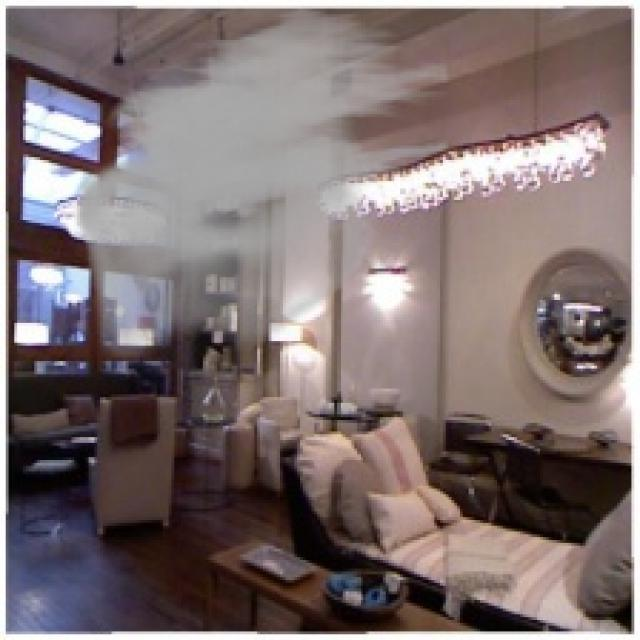Smoke: (74, 3, 452, 360)
